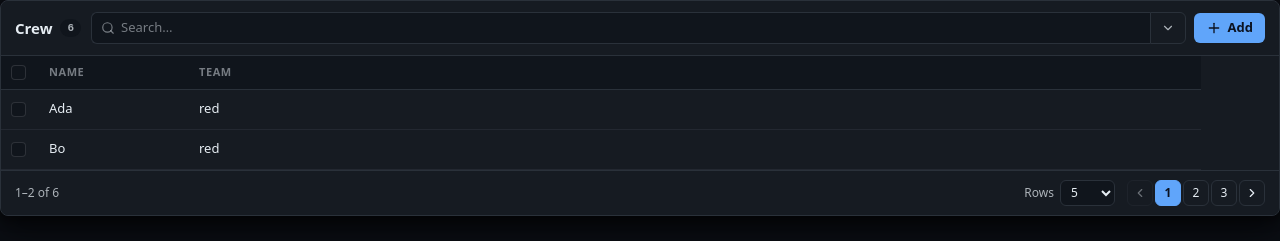
Test: the selection pill › keeps counting a row after paging past it
The width and height of the screenshot is (1280, 241).
Expected: the text "Ada" is shown, x1=49 y1=99 x2=73 y2=117
What coordinates should you click on to do the following:
click the checkbox named "Select row" next to "Ada"
I would click on:
 (18, 109)
Its box is x1=11 y1=102 x2=26 y2=116.
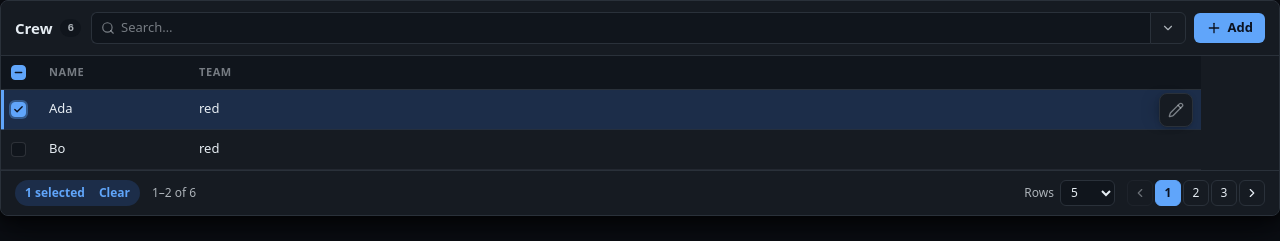
Result: the text "1 selected Clear" is shown at x1=15 y1=180 x2=140 y2=206
What coordinates should you click on to do the following:
click the button named "next page"
I would click on:
 (1252, 192)
Its box is x1=1239 y1=180 x2=1265 y2=206.
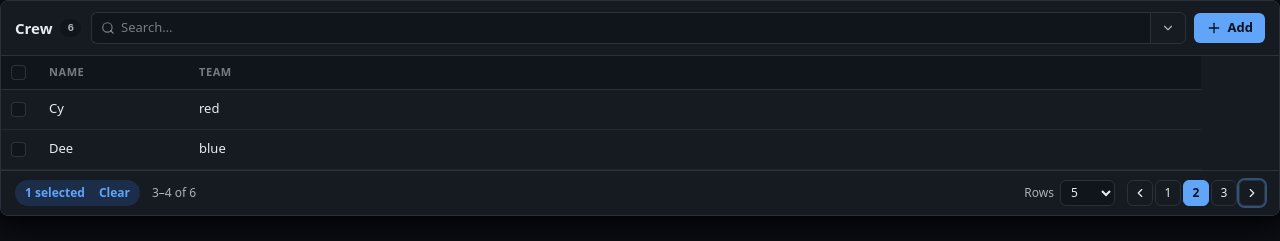
Expected: the checkbox named "select all rows on this page" is not checked, x1=11 y1=64 x2=26 y2=80
Result: the text "1 selected Clear" is shown at x1=15 y1=180 x2=140 y2=206
Result: the text "Cy" is shown at x1=49 y1=99 x2=64 y2=117
